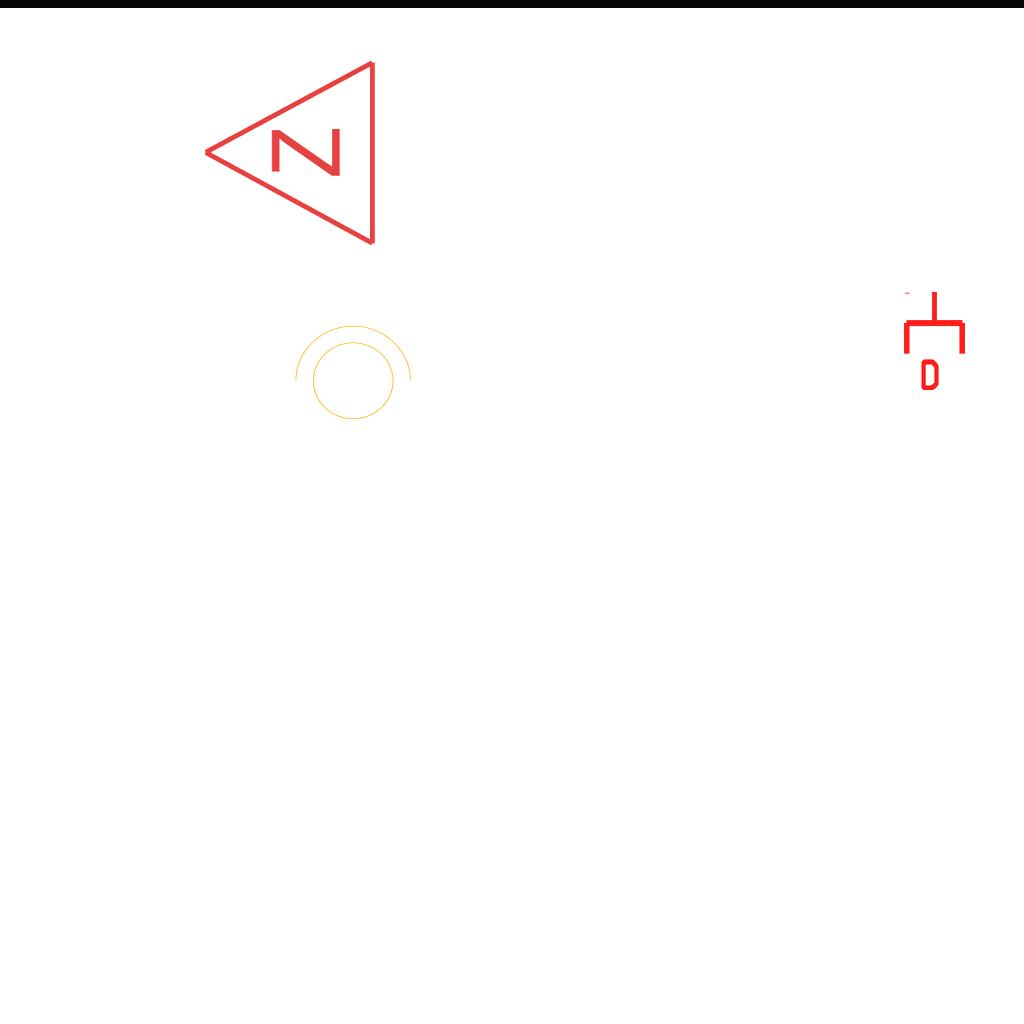Datenanschluss_einfach: (900, 290, 969, 390)
Scheinwerfer_fuer_Alarmbeleuchtung: (284, 320, 416, 432)
Zimmersignalleuchte: (190, 57, 390, 253)
